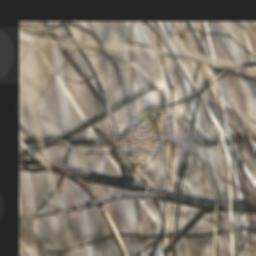Sparrow: (89, 102, 176, 193)
